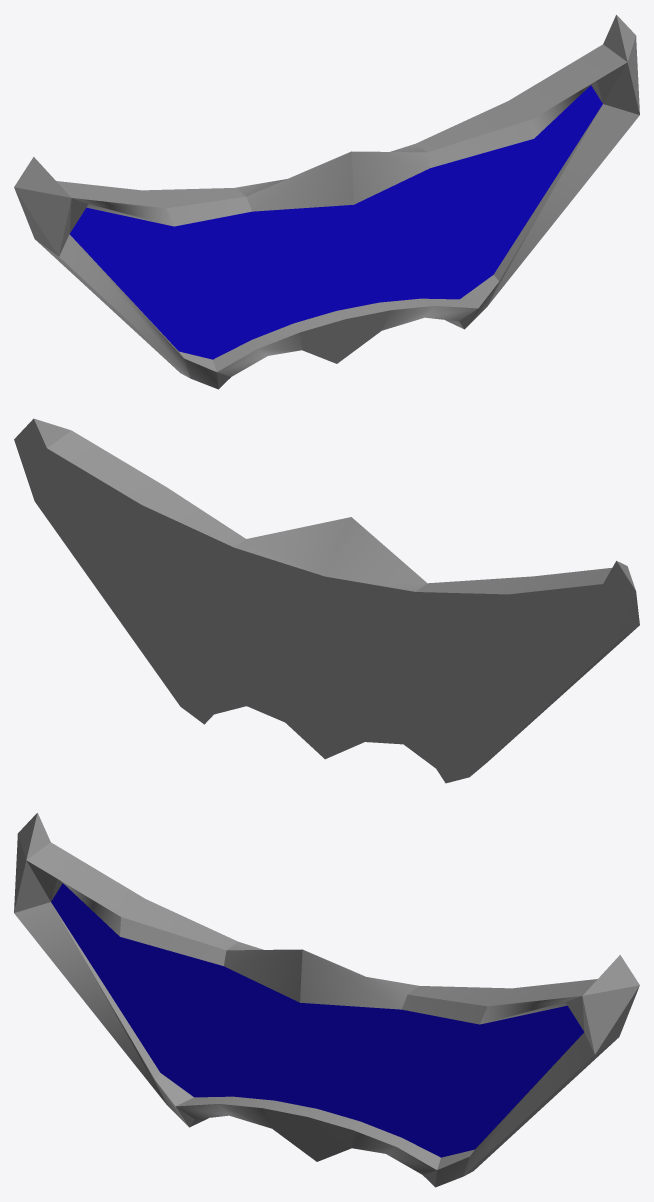
File: MOD_MirrorWide.FBX
3 views of the same model, one above another, from view 1: azimuth 30°, elevation 25°; view 2: azimuth 150°, elevation 25°; view 3: azimuth 330°, elevation 25° (orthographic).
Parts seen in each view (by area): view 1: Mod_MirrorWide; view 2: Mod_MirrorWide; view 3: Mod_MirrorWide.
Part boxes in pixels (bbox=[...]): Mod_MirrorWide: bbox=[14, 15, 639, 389]; Mod_MirrorWide: bbox=[14, 418, 639, 783]; Mod_MirrorWide: bbox=[14, 813, 639, 1187].
Size of the model in its own units: 7.08 by 2.93 by 0.5728.
